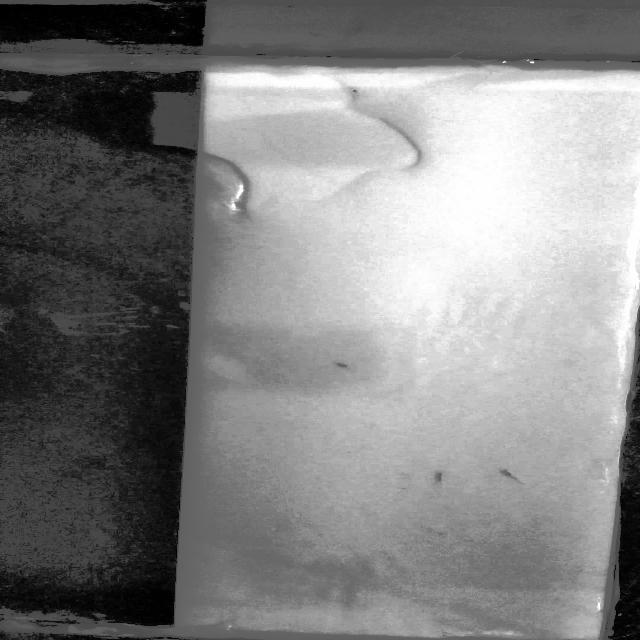shrimp: (410, 466, 455, 486), (496, 466, 518, 484), (342, 86, 373, 96), (330, 361, 348, 370)
